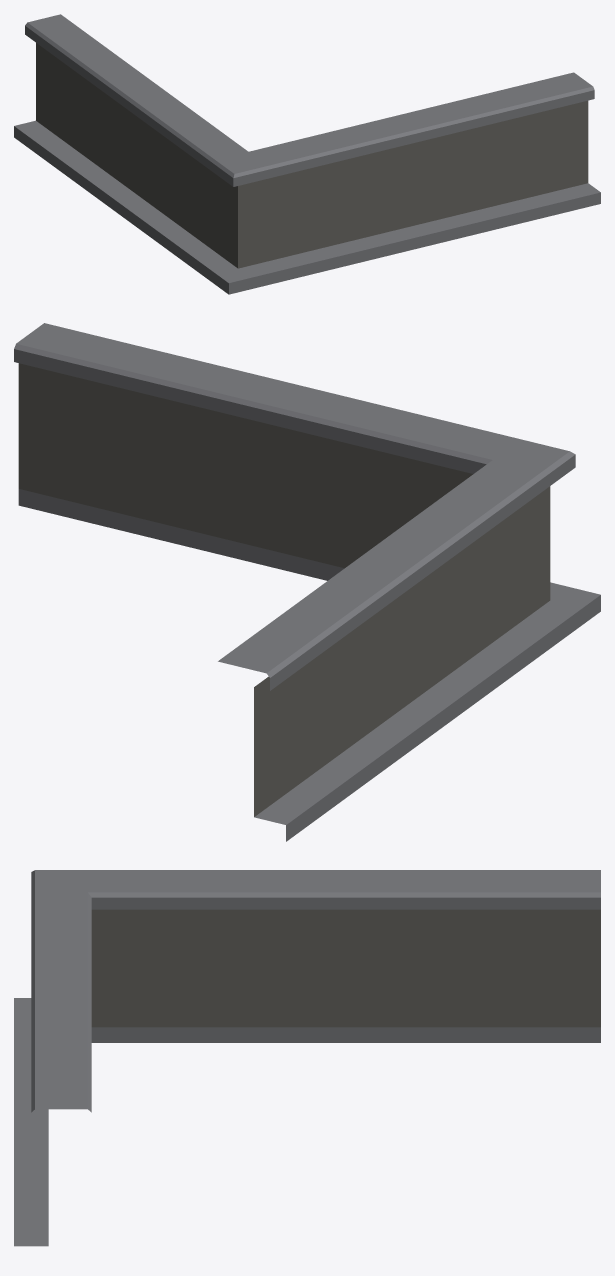
The model's file is SM_Roof_Corner_Out.gltf.
3 renders of one model, top to bottom at view 1: azimuth 30°, elevation 25°; view 2: azimuth 150°, elevation 25°; view 3: azimuth 270°, elevation 25°, orthographic. The views are drawn at different scales.
Visible parts, largest first — view 1: SM_Roof_Corner_Out; view 2: SM_Roof_Corner_Out; view 3: SM_Roof_Corner_Out.
Part boxes in pixels (x1,y1,x2,y2): SM_Roof_Corner_Out: [14, 14, 600, 294]; SM_Roof_Corner_Out: [14, 323, 600, 841]; SM_Roof_Corner_Out: [14, 870, 600, 1246].
Size of the model in its own units: 3.4 by 0.9755 by 3.4.
Materials: 1 (1 with a texture image).
